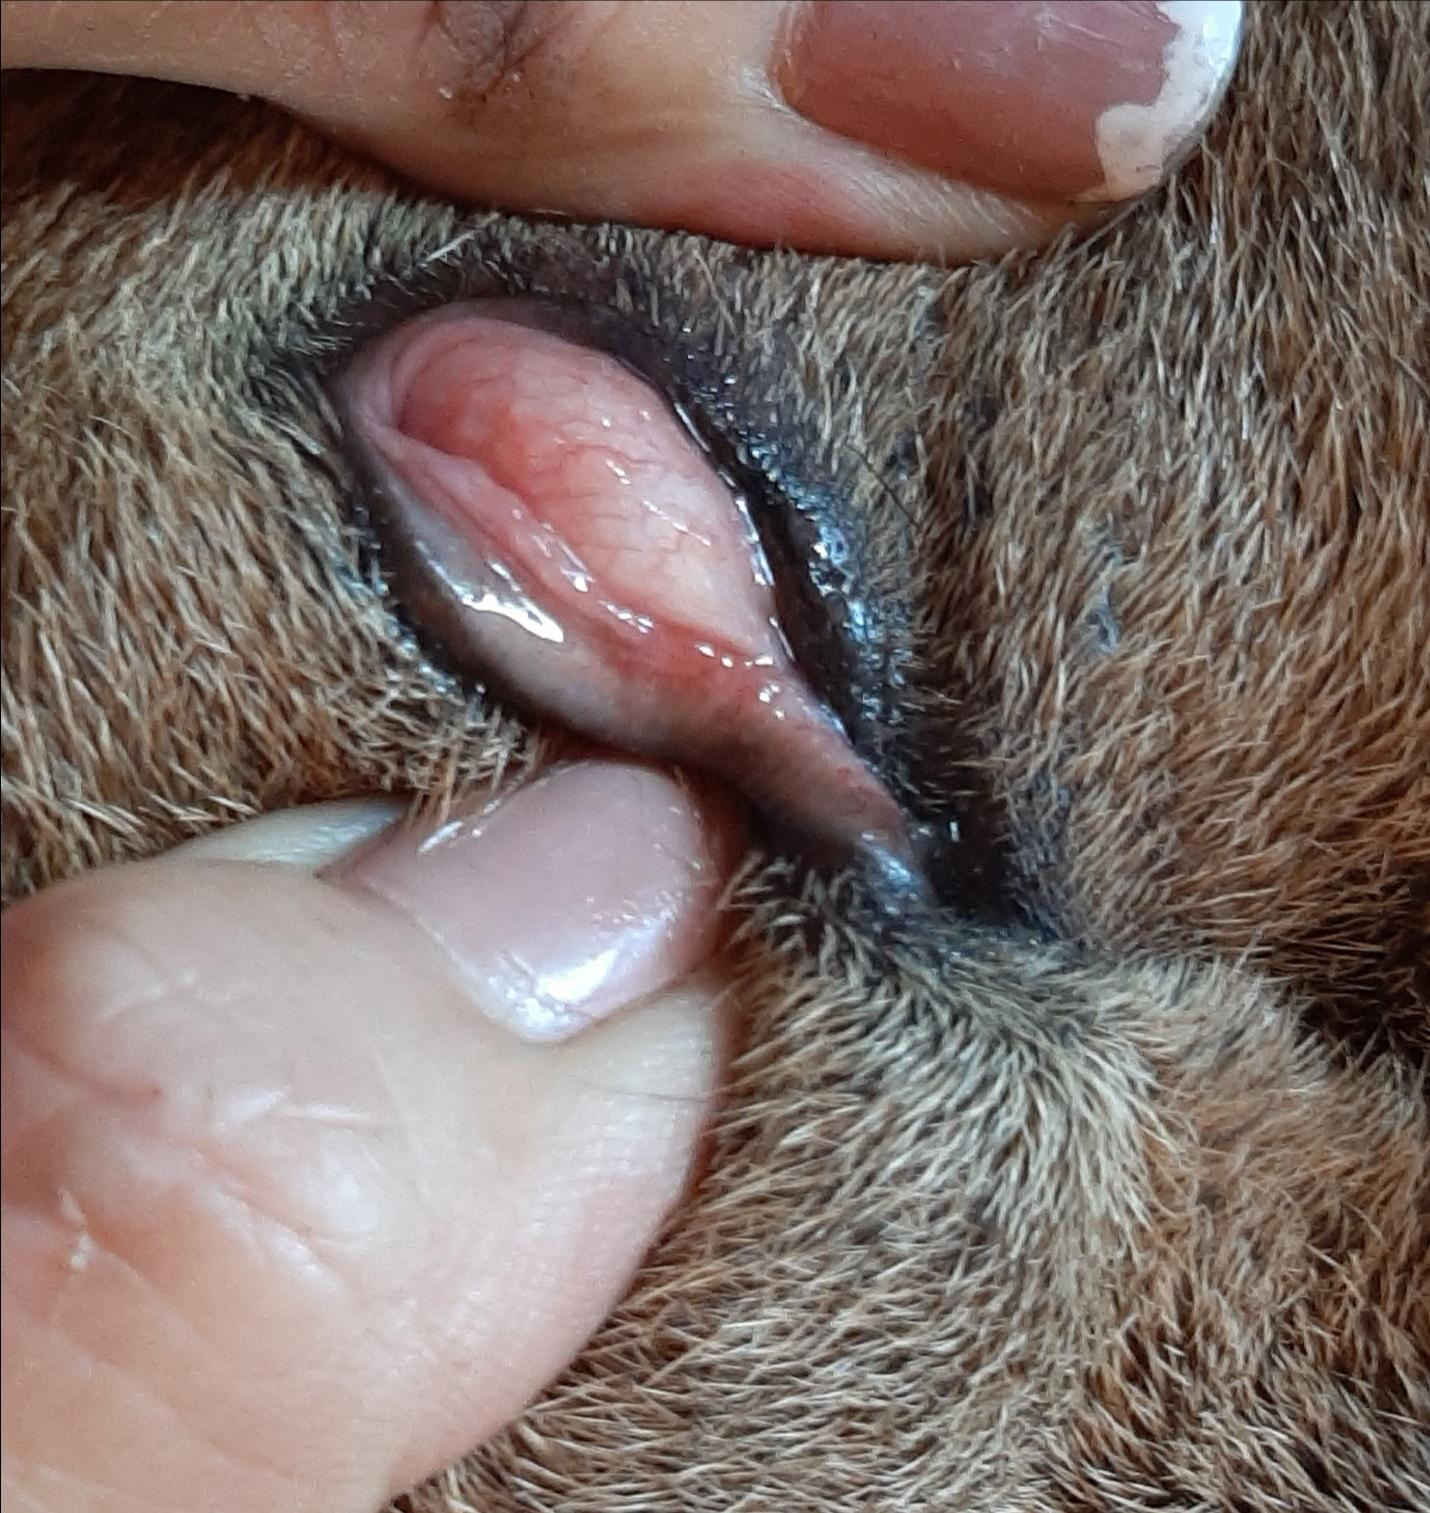eye_membrane: (340, 314, 892, 877)
